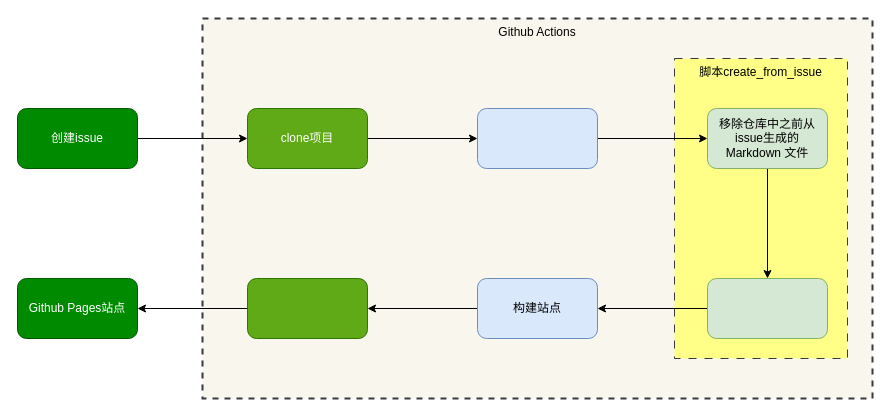
Image size: 891x416. Some labels were removed from this diagram. Here are the shapes that lost their labels. From the top down, the centre of each, then its label:
At point 537,138: "安装依赖".
At point 307,308: "发布到gh-pages分支".
At point 767,308: "拉取label为posts的issue 生成 Markdown 文件".
